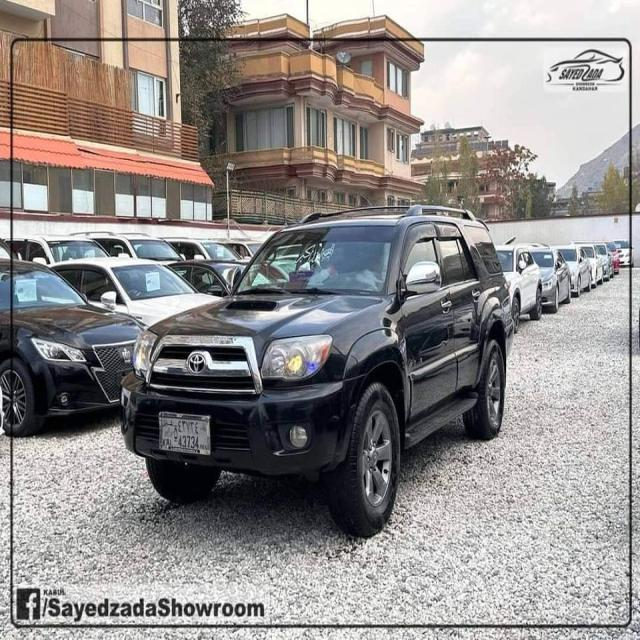Plate: (155, 409, 214, 461)
